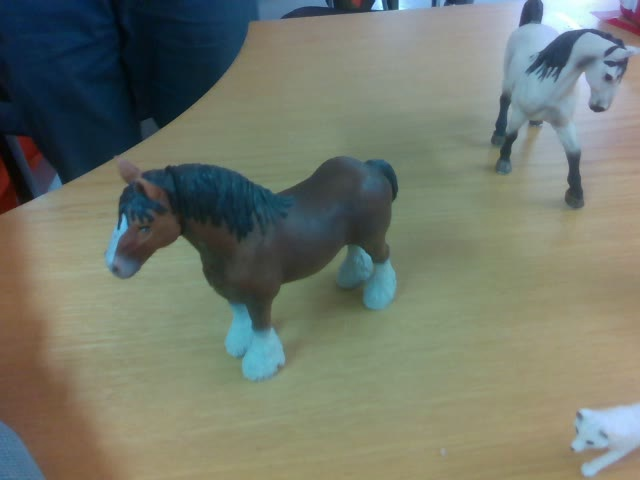toy: (102, 153, 397, 381), (486, 1, 639, 208)
